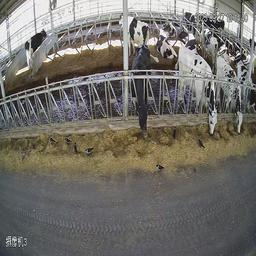cow: (177, 45, 217, 133), (217, 56, 243, 137), (130, 43, 151, 123), (119, 11, 148, 48), (238, 58, 256, 114), (25, 28, 46, 68), (154, 27, 174, 58), (203, 27, 216, 72), (178, 29, 199, 54), (183, 10, 197, 33), (218, 37, 230, 63), (243, 49, 254, 72), (199, 14, 215, 26), (235, 45, 243, 65), (248, 35, 256, 49), (216, 20, 227, 30)
